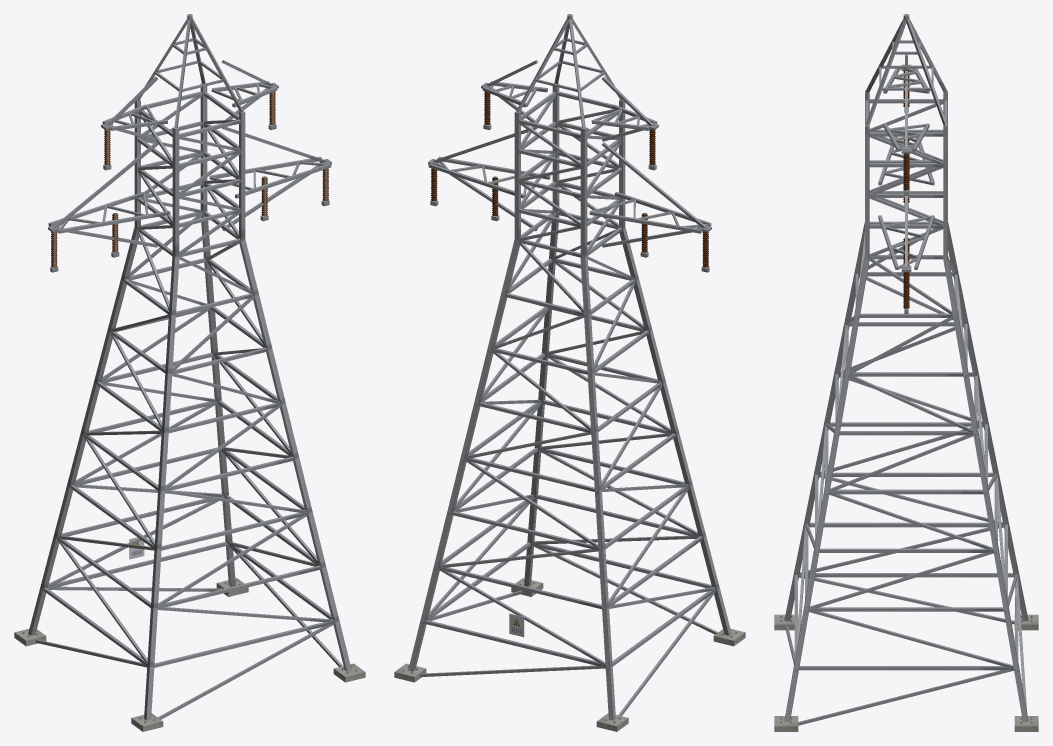
The model's file is lattice_suspension.obj.
3 renders of one model, left to right at view 1: azimuth 30°, elevation 25°; view 2: azimuth 150°, elevation 25°; view 3: azimuth 270°, elevation 25°, orthographic. The views are drawn at different scales.
Visible parts, largest first — view 1: body, arm, footing; view 2: body, arm, footing; view 3: body, arm, footing.
Part boxes in pixels (<box>): body: <box>28,18,351,720</box>; arm: <box>48,60,331,247</box>; footing: <box>14,578,365,731</box>; body: <box>408,18,731,720</box>; arm: <box>428,60,711,247</box>; footing: <box>394,578,745,731</box>; body: <box>784,18,1028,725</box>; arm: <box>878,54,934,272</box>; footing: <box>774,614,1038,731</box>.
Bounding box in the file's own units: 5.25 × 11.55 × 4.18.
